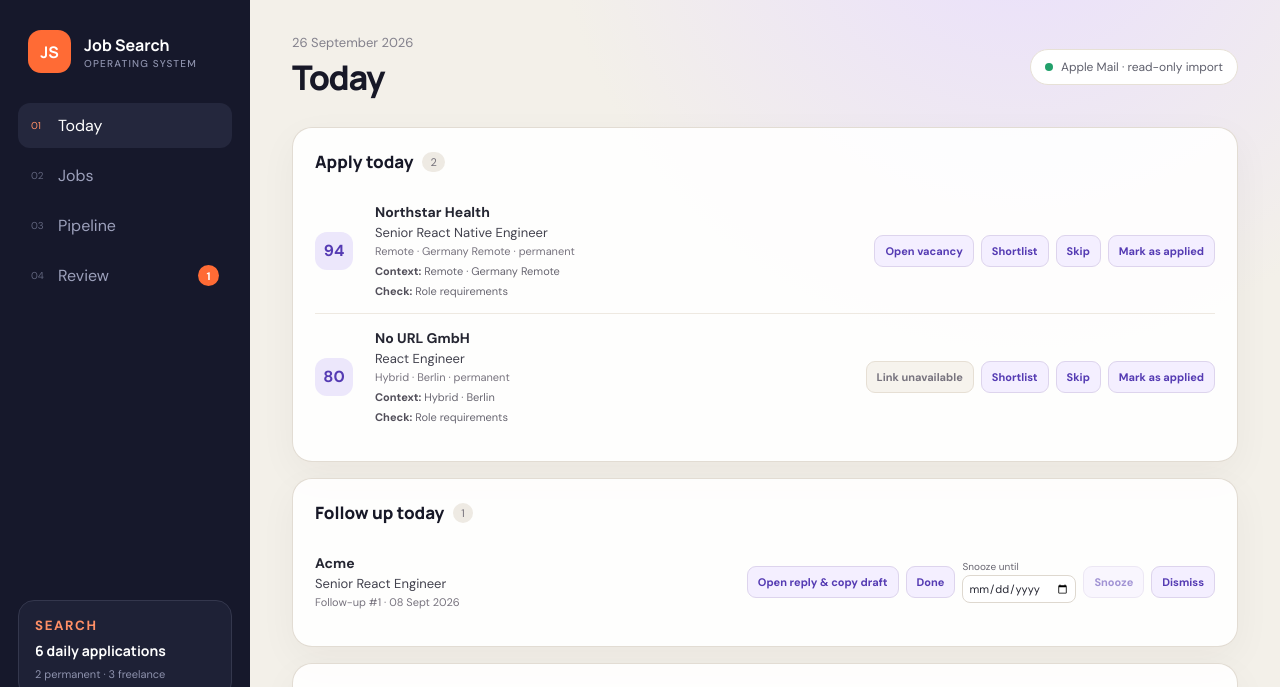
Test: App › shortlisting replaces the dashboard with freshly loaded state
expect the heading "Apply today" is shown: met, box left=315, top=150, right=413, bottom=173
Click the button with aria-label "Shortlist Northstar Health Senior React Native Engineer". click: coordinates (1015, 250)
box: left=981, top=234, right=1049, bottom=266
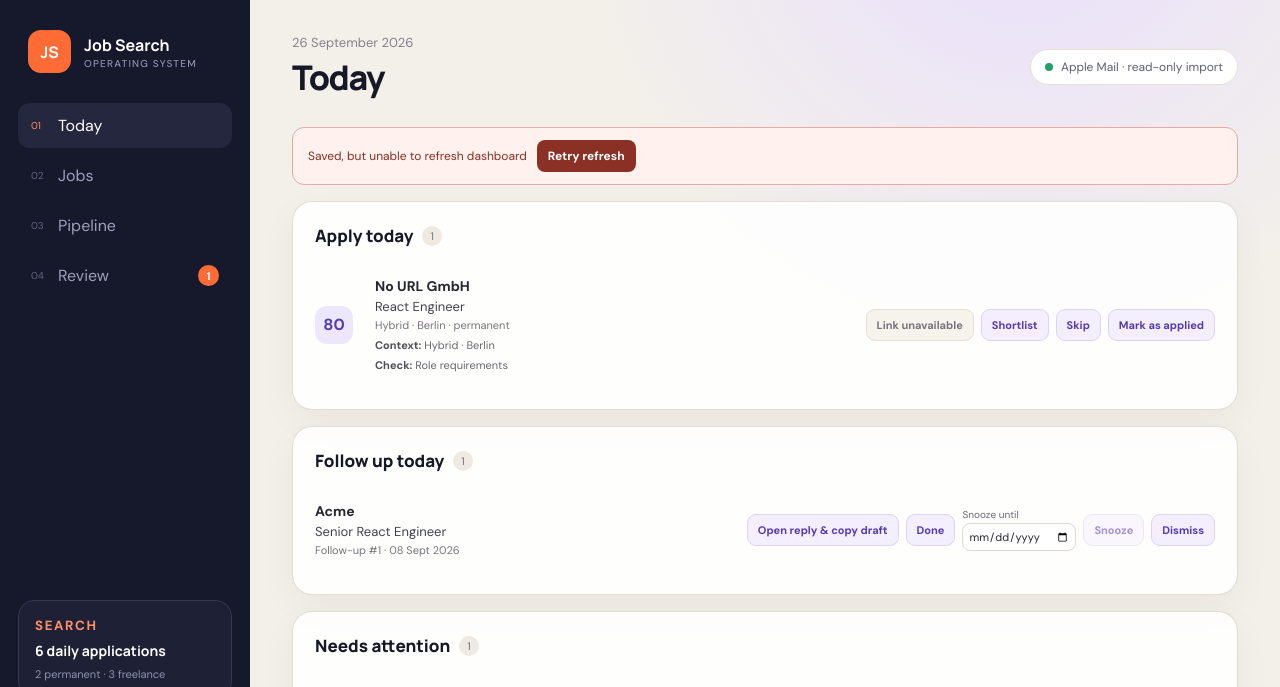
expect the text "Northstar Health" is gone: met
